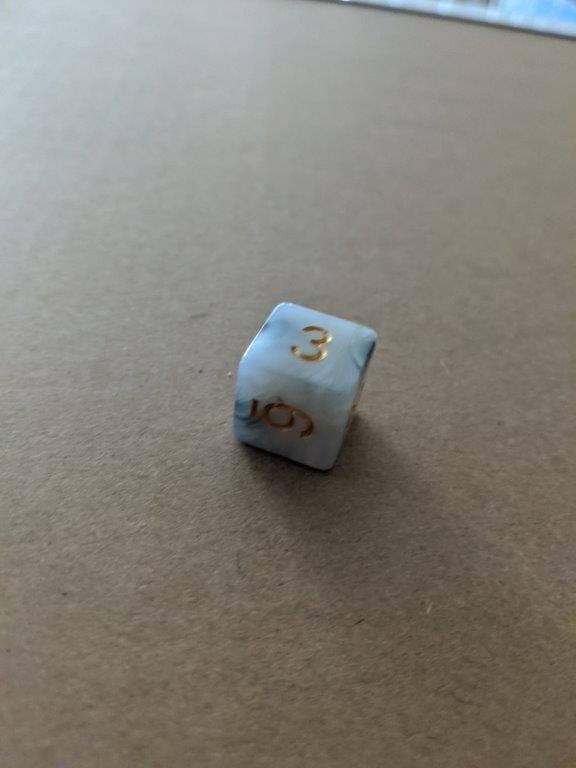d6-3: (232, 300, 378, 472)
